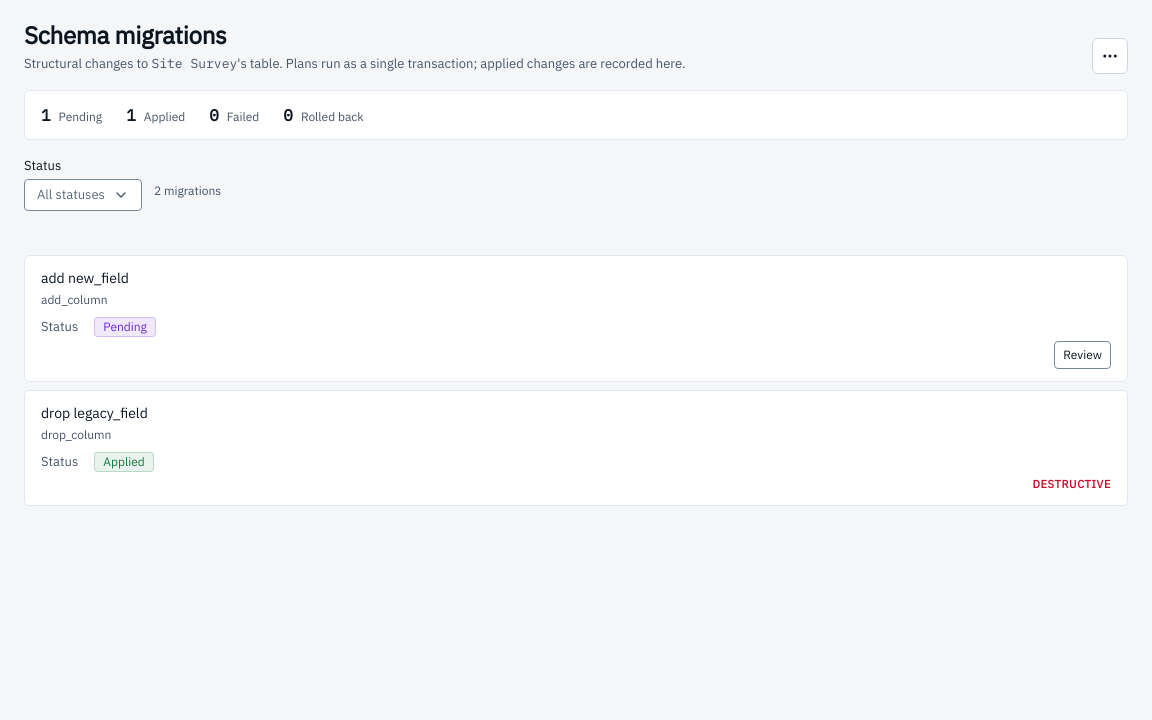
SchemaMigrationsPage — detail modal › warns that a destructive migration cannot be reverted
The width and height of the screenshot is (1152, 720).
Click the text "drop legacy_field": coordinates (94, 413) [41,404,148,422]
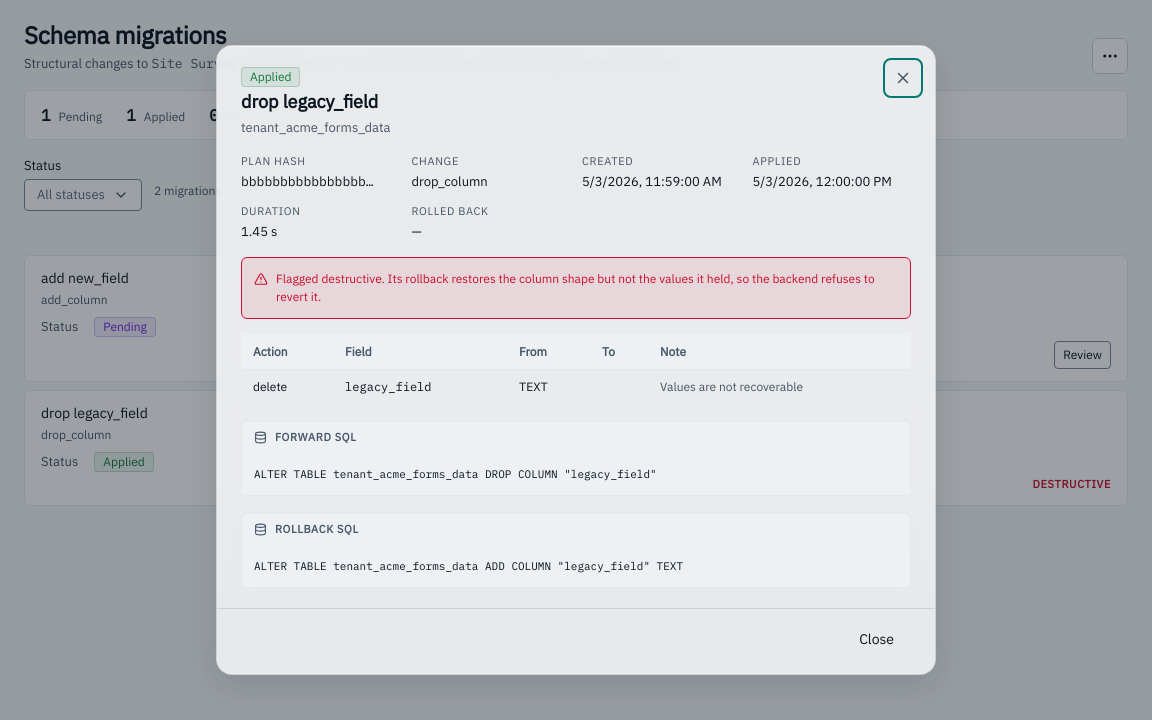
Result: the text "refuses to revert it" is shown at [276,272,875,304]
